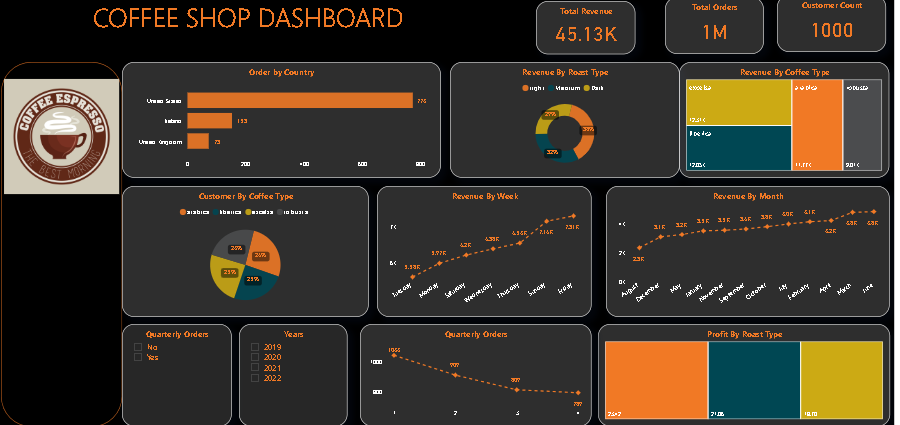

The page's visual inventory and layout, read from the dashboard file:
{"tool":"powerbi","page":{"name":"Page 1","canvas":[1480,720],"ordinal":0},"visuals":[{"type":"card","title":"Customer Count","fields":{"Values":["customers.TotalCustomers"]},"box":[1287,9,180,94],"z":0},{"type":"card","title":"Total Orders","fields":{"Values":["Sum(orders.SumTotalOrders)"]},"box":[1102,12,163,94],"z":1000},{"type":"card","title":"Total Revenue","fields":{"Values":["products.revenue"]},"box":[889,18,164,88],"z":2000},{"type":"barChart","title":"Order by Country","fields":{"Y":["CountNonNull(orders.SumTotalOrders)"],"Category":["customers.Country"]},"box":[207,118,526,191],"z":3000},{"type":"donutChart","title":"Revenue By Roast Type","fields":{"Category":["products.Roast Type"],"Y":["products.revenue"]},"box":[747,118,379,191],"z":4000},{"type":"treemap","title":"Revenue By Coffee Type","fields":{"Group":["products.Coffee Type"],"Values":["products.revenue"]},"box":[1126,118,347,191],"z":5000},{"type":"pieChart","title":"Customer By Coffee Type","fields":{"Y":["customers.TotalCustomersCount"],"Category":["products.Coffee Type"]},"box":[207,324,407,216],"z":6000},{"type":"lineChart","title":"Revenue By Week","fields":{"Category":["Calender.Day Name"],"Y":["products.revenue"]},"box":[627,324,354,216],"z":7000},{"type":"lineChart","title":"Revenue By Month","fields":{"Y":["products.revenue"],"Category":["Calender.Month"]},"box":[1005,324,468,216],"z":8000},{"type":"treemap","title":"Profit  By Roast Type","fields":{"Group":["products.Roast Type"],"Values":["Sum(products.Profit)"]},"box":[991,551,482,169],"z":9000},{"type":"lineChart","title":"Quarterly Orders","fields":{"Category":["Calender.Quartly"],"Y":["Sum(orders.Quantity)"]},"box":[599,551,382,169],"z":10000},{"type":"slicer","title":"Quarterly Orders","fields":{"Values":["customers.Loyalty Card"]},"box":[207,551,181,169],"z":11000},{"type":"textbox","box":[7,9,815,74],"z":12000},{"type":"slicer","title":"Years","fields":{"Values":["Calender.Year"]},"box":[400,551,179,169],"z":13000},{"type":"shape","box":[7,118,200,602],"z":14000},{"type":"image","box":[6.6,123.7,199.6,235.9],"z":15000}]}

Visuals, with their boxes in screenshot pixels (x1, y1, x2, y2):
"Customer Count" card: 773/0/881/50
"Total Orders" card: 662/0/760/52
"Total Revenue" card: 533/0/632/52
"Order by Country" barChart: 122/59/439/174
"Revenue By Roast Type" donutChart: 448/59/676/174
"Revenue By Coffee Type" treemap: 676/59/885/174
"Customer By Coffee Type" pieChart: 122/183/368/314
"Revenue By Week" lineChart: 375/183/589/314
"Revenue By Month" lineChart: 603/183/885/314
"Profit  By Roast Type" treemap: 595/320/885/422
"Quarterly Orders" lineChart: 358/320/589/422
"Quarterly Orders" slicer: 122/320/231/422
textbox: 2/0/493/38
"Years" slicer: 239/320/346/422
shape: 2/59/122/422
image: 2/63/122/205
